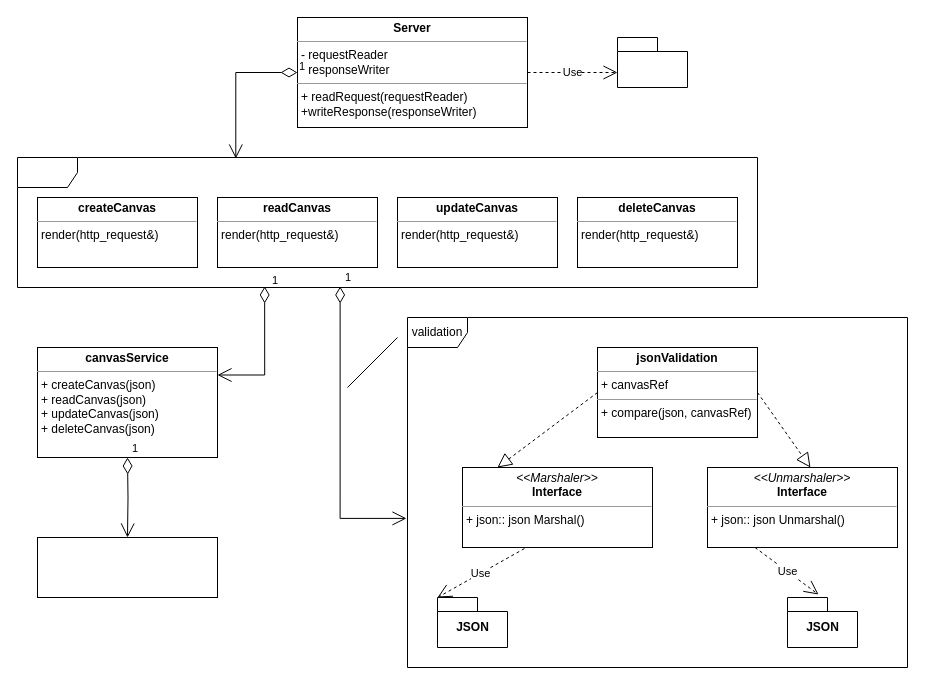
This 925x685 diagram has some shape labels left out. The shapes that lost their labels are listed below. From the top down, each one's box as (x1, y1, x2, y2) in pixels, then its label:
(616, 36, 688, 88): HTTP
(16, 156, 758, 288): handlers
(36, 536, 218, 598): dataBase + sendJson(json)
